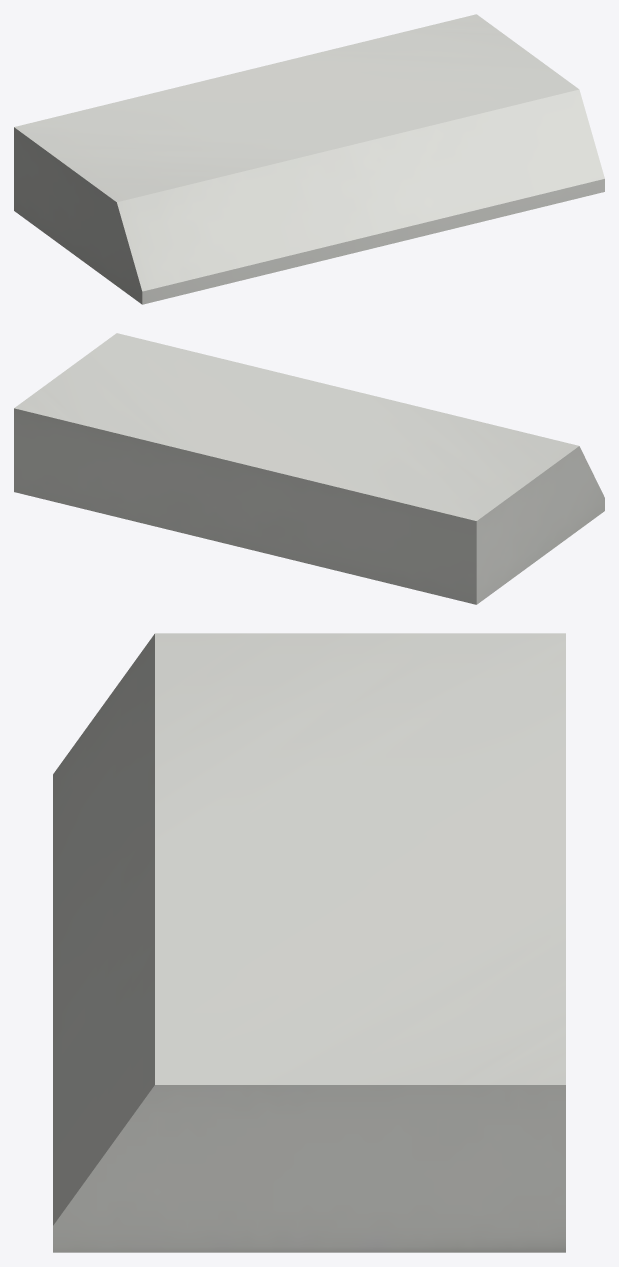
Rendered from uv_lamp.FBX.
The picture shows the model from 3 angles, top to bottom: view 1: azimuth 30°, elevation 25°; view 2: azimuth 150°, elevation 25°; view 3: azimuth 270°, elevation 25°; orthographic projection. The views are drawn at different scales.
Parts seen in each view (by area): view 1: uv_lamp; view 2: uv_lamp; view 3: uv_lamp.
Boxes of the visible parts, x1,y1,x2,y2 form: uv_lamp: (14, 14, 604, 304); uv_lamp: (14, 333, 604, 604); uv_lamp: (53, 633, 565, 1252).
Size of the model in its own units: 79.92 by 13.82 by 38.4.
